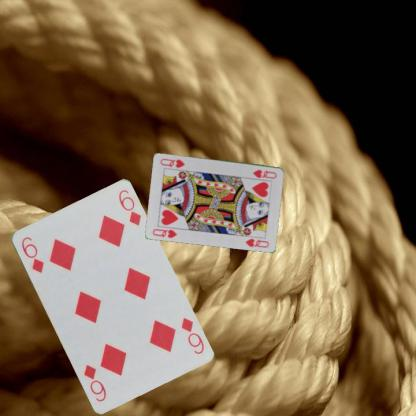6d: (178, 314, 205, 356), (19, 233, 45, 274)
Qh: (150, 226, 178, 239), (251, 167, 278, 180)
